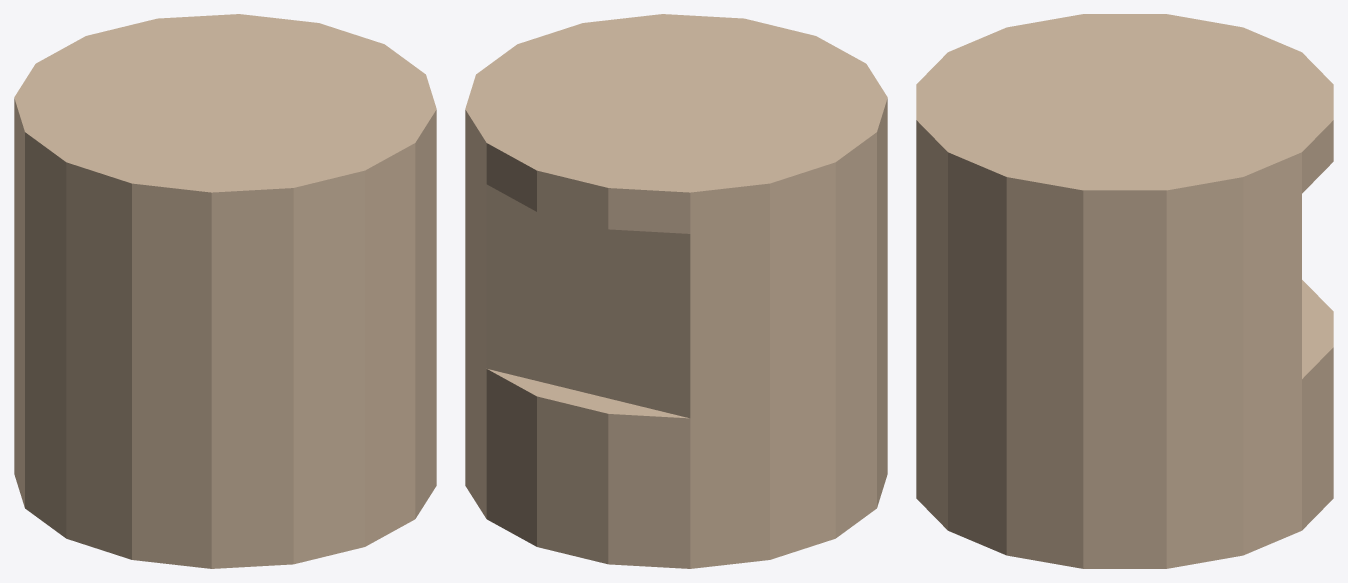
The model's file is vega_crew_s2_1_cutout_collider.obj.
The picture shows the model from 3 angles, left to right: view 1: azimuth 30°, elevation 25°; view 2: azimuth 150°, elevation 25°; view 3: azimuth 270°, elevation 25°; orthographic projection.
Parts seen in each view (by area): view 1: collider1, collider3, collider2; view 2: collider1, collider3, collider2; view 3: collider3, collider1, collider2.
Boxes of the visible parts, x1,y1,x2,y2 form: collider1: (14,140,436,418); collider3: (14,14,436,233); collider2: (14,324,436,568); collider1: (465,140,887,418); collider3: (465,14,887,233); collider2: (465,324,887,568); collider3: (916,14,1333,231); collider1: (916,162,1301,417); collider2: (916,280,1333,568).
Bounding box in the file's own units: 2.5 × 2.5 × 2.5.
